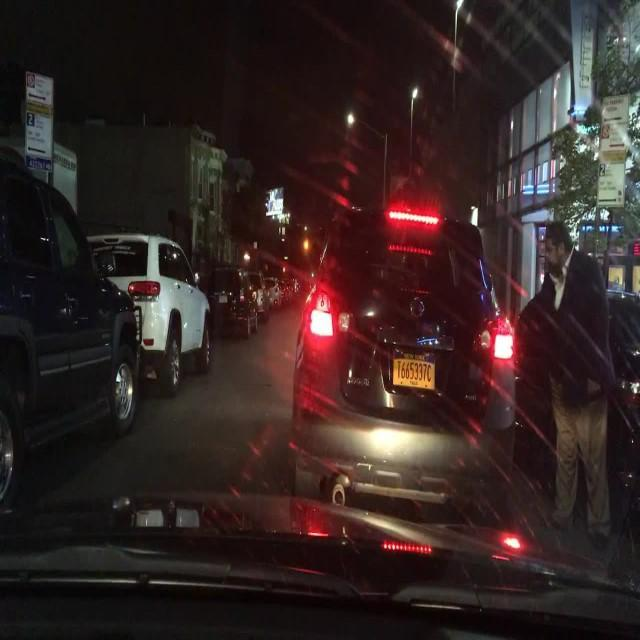normal: (262, 139, 640, 591)
